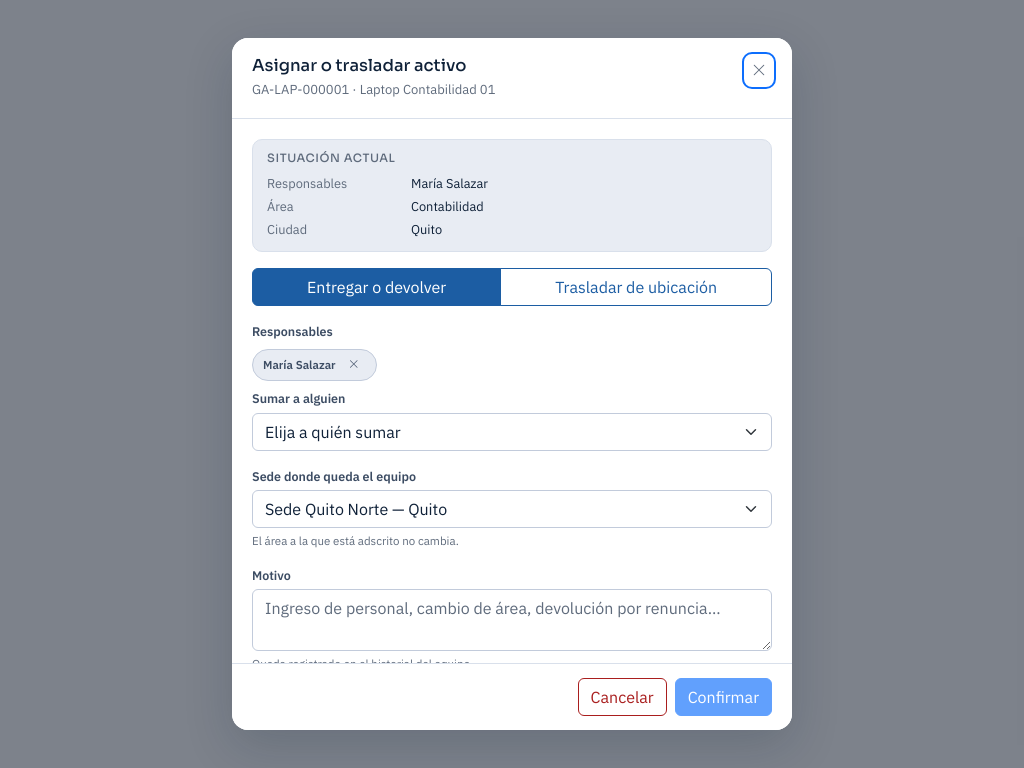
Un equipo compartido › quitar a todos avisa de que el equipo vuelve a bodega
Expected: the heading "Situación actual" is shown, x1=267 y1=151 x2=396 y2=165
Click the button named "Quitar a María Salazar" at point(354, 365), box x1=342 y1=353 x2=366 y2=377
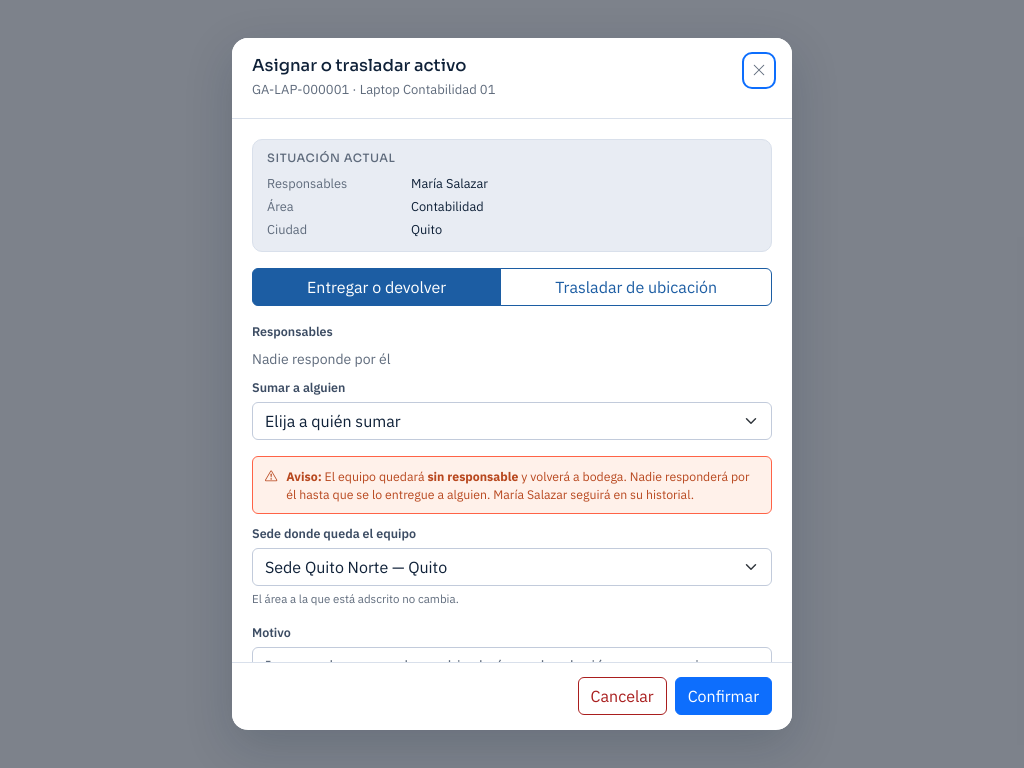
Expected: the list item "Nadie responde por él" is shown, x1=252 y1=349 x2=390 y2=370
Expected: the element that starts with "Aviso:" shows "sin responsable", x1=427 y1=468 x2=518 y2=484
